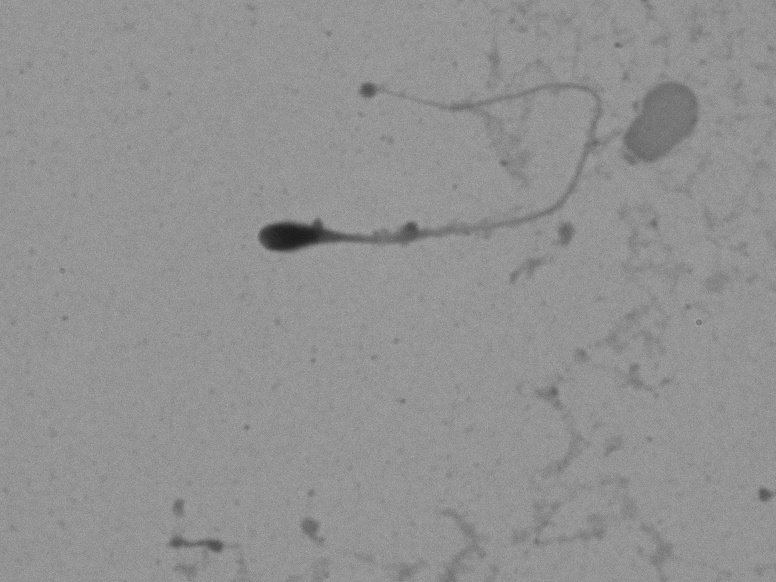Abnormal: (193, 52, 623, 280)
